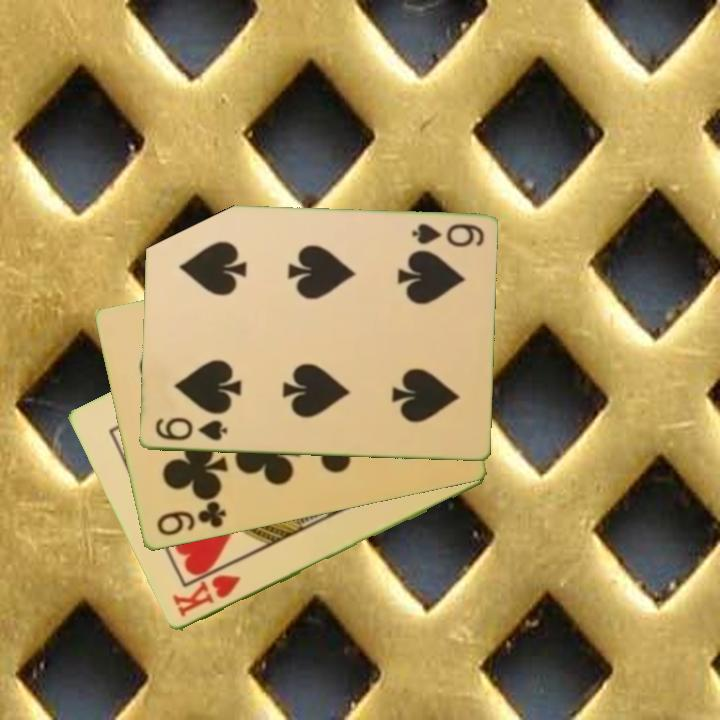6s: (407, 221, 487, 250), (152, 415, 230, 444)
9c: (153, 498, 229, 539)
Kh: (169, 571, 244, 621)
